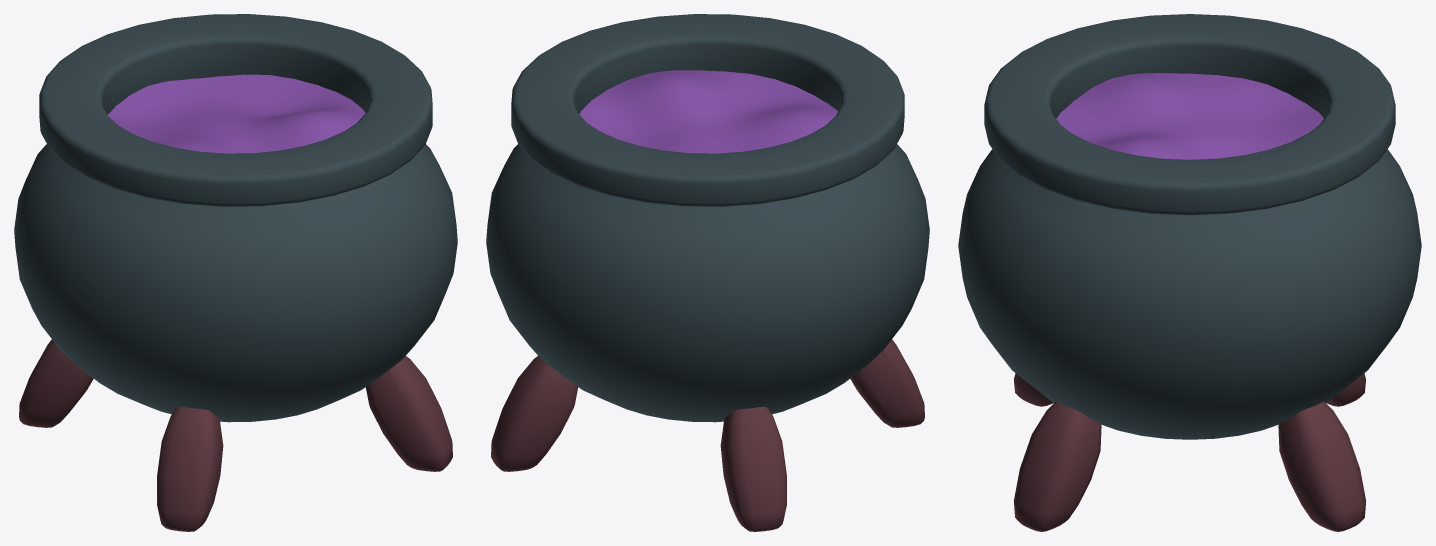
File: CaldeiraoTeste.fbx
3 renders of one model, left to right at view 1: azimuth 30°, elevation 25°; view 2: azimuth 150°, elevation 25°; view 3: azimuth 270°, elevation 25°, orthographic. The views are drawn at different scales.
Visible parts, largest first — view 1: CaldeiraoBevel3Perna1; view 2: CaldeiraoBevel3Perna1; view 3: CaldeiraoBevel3Perna1.
Part boxes in pixels (bbox=[...]): CaldeiraoBevel3Perna1: bbox=[14, 14, 457, 531]; CaldeiraoBevel3Perna1: bbox=[486, 14, 929, 531]; CaldeiraoBevel3Perna1: bbox=[958, 14, 1421, 531].
Size of the model in its own units: 200 by 174 by 200.
